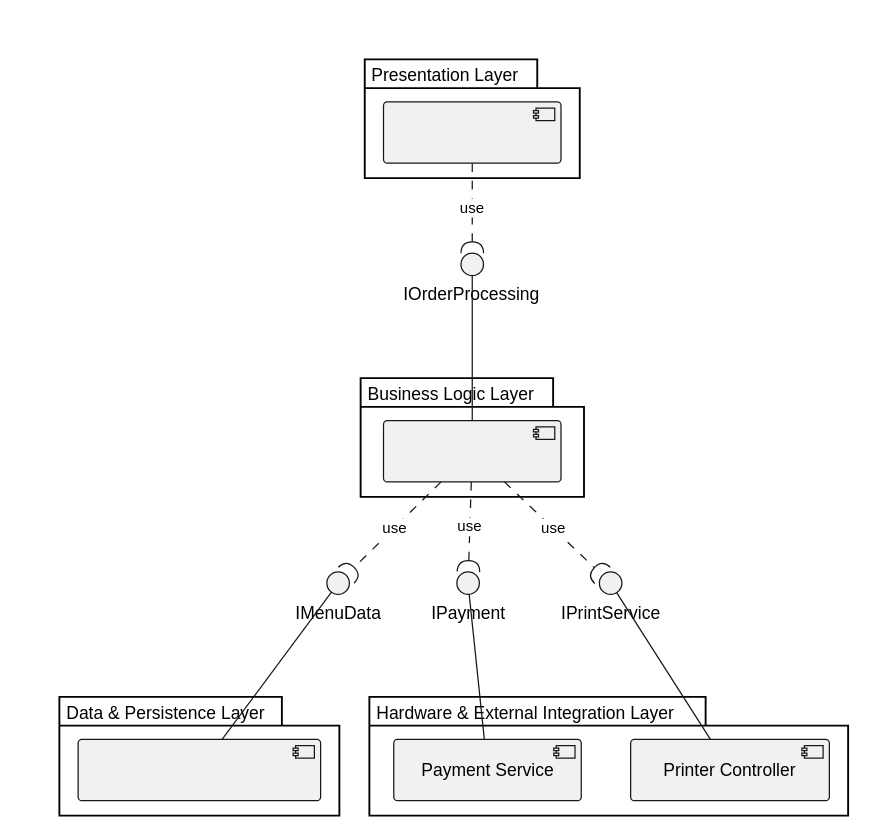
The diagram is 870 pixels wide and 838 high, and some of its shapes have lost their labels. The shapes that lost their labels are listed below. From the top down, each one's centre as x and y in pixels, then its label:
At pixel 471 132: "TouchScreen UI".
At pixel 471 450: "Order Manager".
At pixel 199 769: "Menu & Pricing Service".
